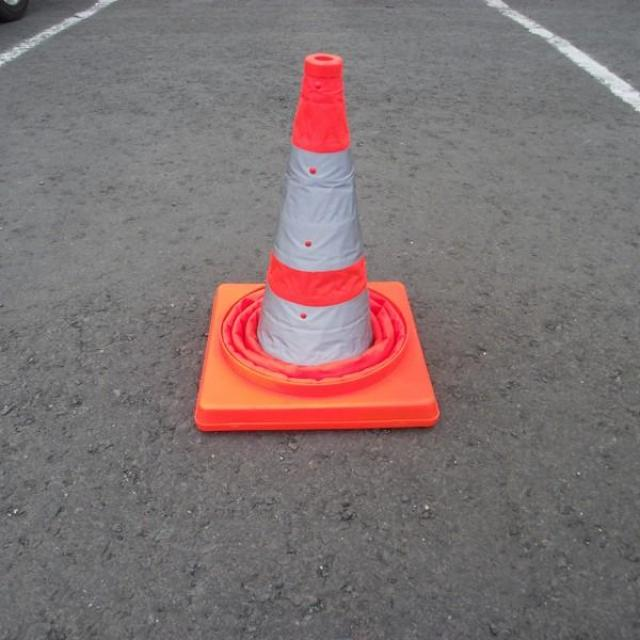Traffic Cone: (182, 27, 460, 450)
